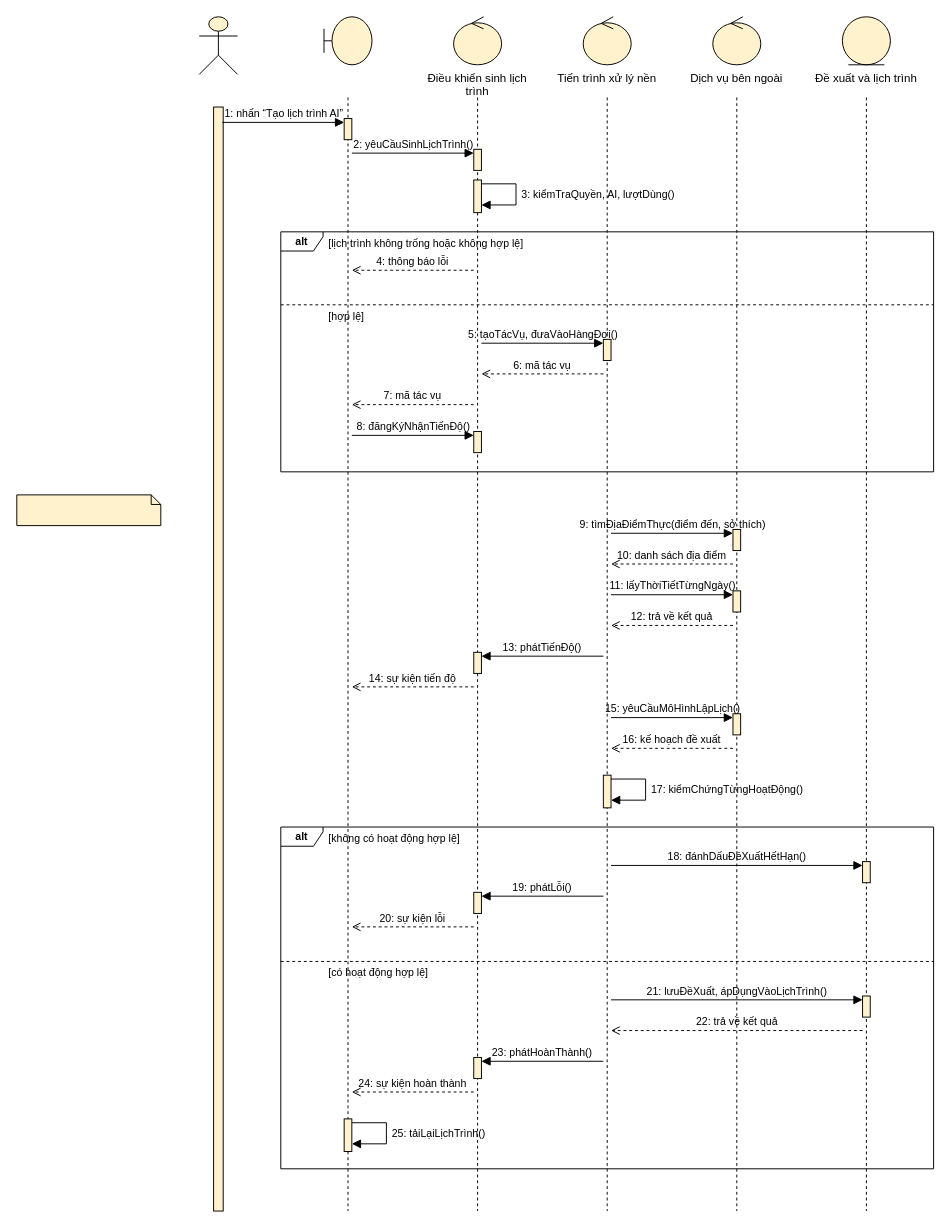
This 951x1229 diagram has some shape labels left out. Here are the shapes that lost their labels. From the top down, the box of each, then its label:
(198, 16, 238, 74): Người dùng
(323, 16, 372, 65): Giao diện chuyến đi
(16, 494, 161, 526): Xử lý nền
